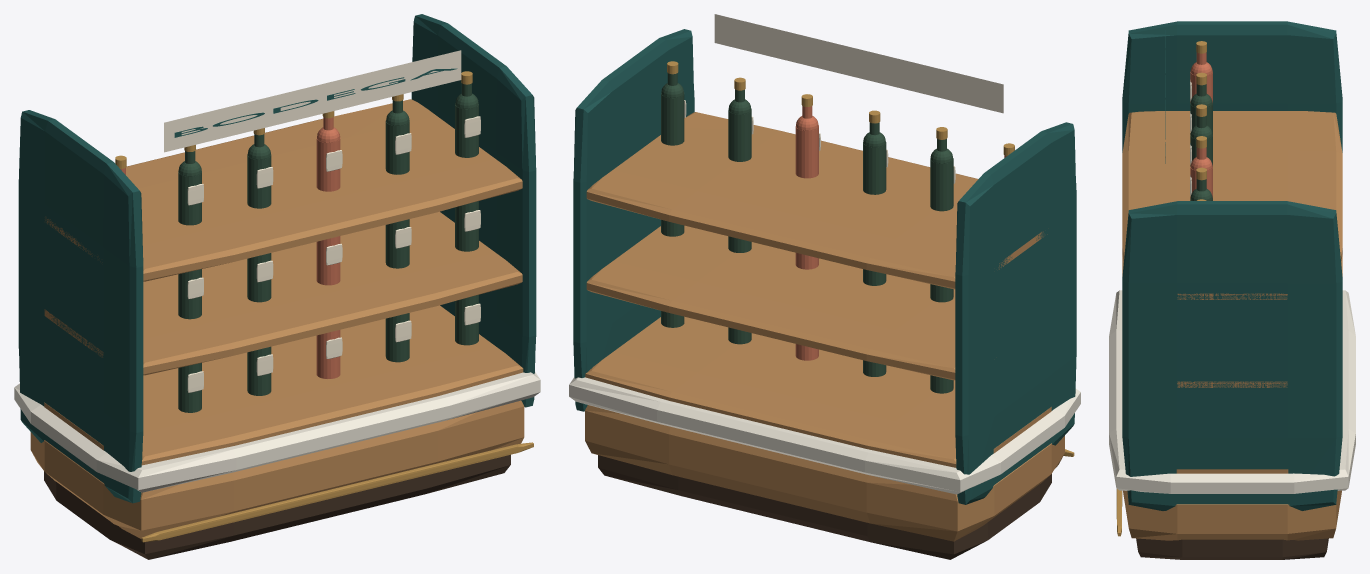
File: best.glb
3 views of the same model, side by side, from view 1: azimuth 30°, elevation 25°; view 2: azimuth 150°, elevation 25°; view 3: azimuth 270°, elevation 25° (orthographic). The views are drawn at different scales.
Visible parts, largest first — view 1: Native component 6, Native component 3, Native component 1, Native component 64, Native component 5, Native component 0, Native component 46, Native component 2, Native component 10, Sign BODEGA; view 2: Native component 6, Native component 3, Native component 1, Native component 64, Native component 0, Native component 5, Native component 10, Native component 2; view 3: Native component 3, Native component 6, Native component 1, Native component 0, Native component 64, Native component 10, Native component 2.
Boxes of the visible parts, box(x1,y1,x2,y2) form: Native component 6: box(30, 99, 524, 538); Native component 3: box(18, 14, 536, 503); Native component 1: box(14, 372, 540, 492); Native component 64: box(178, 83, 478, 412); Native component 5: box(164, 50, 461, 152); Native component 0: box(44, 454, 510, 559); Native component 46: box(187, 116, 480, 392); Native component 2: box(115, 71, 533, 542); Native component 10: box(120, 117, 340, 378); Sign BODEGA: box(174, 68, 457, 137); Native component 6: box(585, 112, 1064, 541); Native component 3: box(573, 29, 1076, 504); Native component 1: box(569, 377, 1080, 494); Native component 64: box(661, 73, 953, 393); Native component 0: box(598, 455, 1051, 559); Native component 5: box(714, 14, 1003, 113); Native component 10: box(795, 106, 1006, 360); Native component 2: box(667, 61, 1074, 456); Native component 3: box(1122, 21, 1342, 510); Native component 6: box(1122, 111, 1342, 540); Native component 1: box(1109, 290, 1355, 493); Native component 0: box(1136, 538, 1328, 559); Native component 64: box(1190, 84, 1212, 200); Native component 10: box(1190, 52, 1212, 197); Native component 2: box(1116, 41, 1206, 536).
Bounding box in the file's own units: 2.1 × 1.98 × 1.12.
